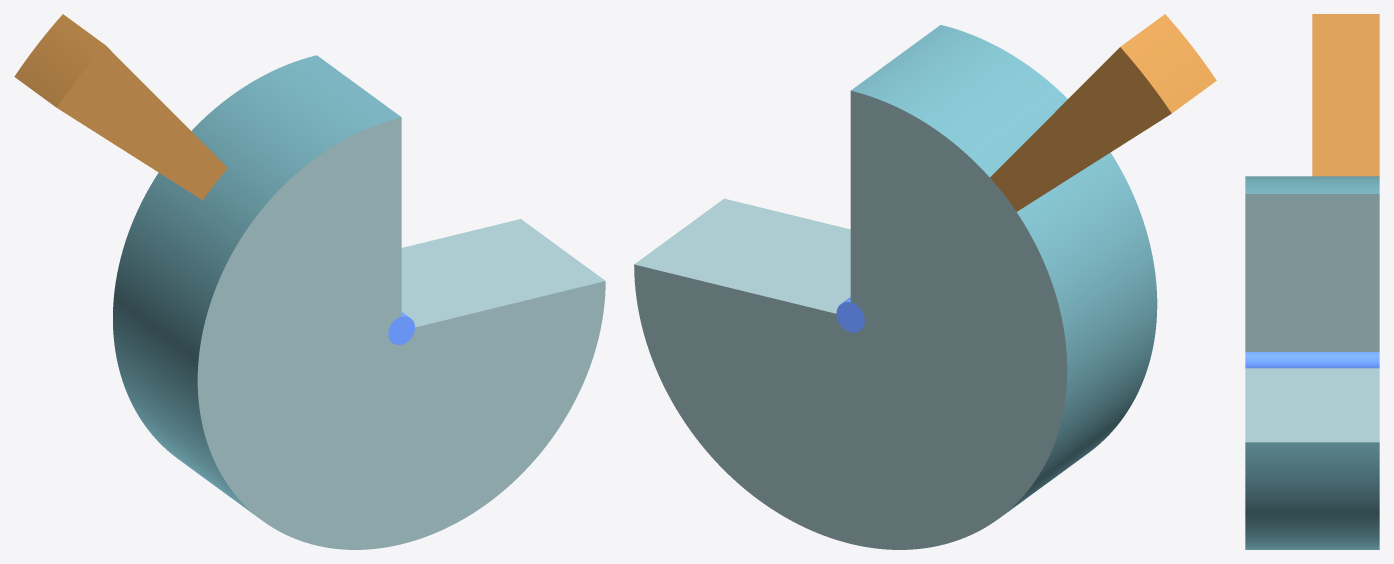
File: micro3d-optical-fiber.glb
3 views of the same model, side by side, from view 1: azimuth 30°, elevation 25°; view 2: azimuth 150°, elevation 25°; view 3: azimuth 270°, elevation 25° (orthographic). The views are drawn at different scales.
Parts seen in each view (by area): view 1: Cladding cut face, 125 micrometre cladding exterior, Longitudinal cladding cut, Polymer cross-section, Remaining polymer coating sector; view 2: Cladding cut face, 125 micrometre cladding exterior, Longitudinal cladding cut, Polymer cross-section, Remaining polymer coating sector, Core end; view 3: Longitudinal cladding cut (×2), 125 micrometre cladding exterior, Coating sector cut, Core.
Boxes of the visible parts, x1,y1,x2,y2 form: Cladding cut face: (197,117,605,549); 125 micrometre cladding exterior: (113,55,401,516); Longitudinal cladding cut: (401,219,604,327); Polymer cross-section: (57,45,227,200); Remaining polymer coating sector: (14,14,104,107); Cladding cut face: (634,91,1067,549); 125 micrometre cladding exterior: (851,25,1157,515); Longitudinal cladding cut: (634,198,850,313); Polymer cross-section: (990,47,1171,211); Remaining polymer coating sector: (1120,14,1216,113); Core end: (836,302,864,332); Longitudinal cladding cut (×2): (1245,194,1379,442); 125 micrometre cladding exterior: (1245,176,1379,549); Coating sector cut: (1312,14,1379,176); Core: (1245,352,1379,368).
Size of the model in its own units: 155 by 155 by 45.
